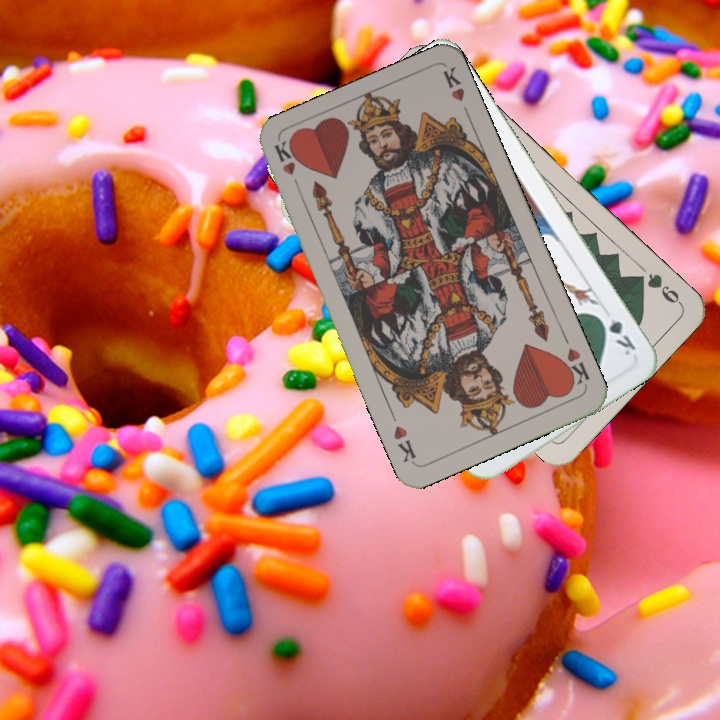G9: (630, 269, 684, 307)
GK: (593, 311, 639, 358)
HK: (270, 138, 304, 196), (556, 343, 592, 390)
